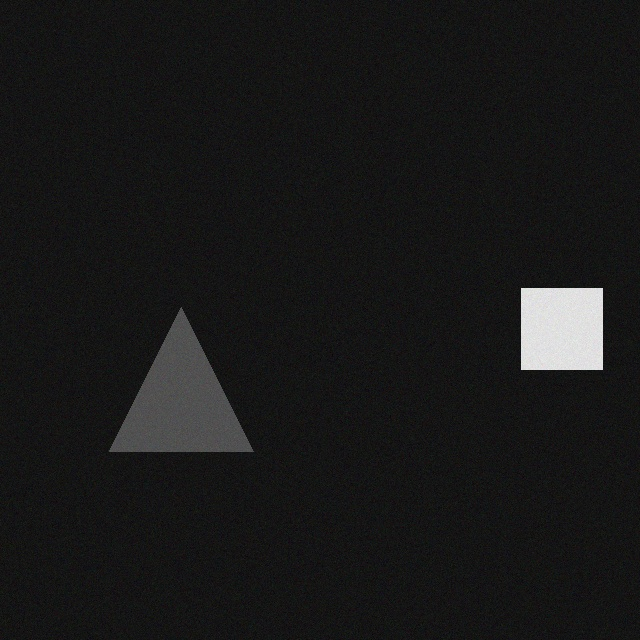square: (520, 279, 601, 360)
triangle: (108, 298, 252, 442)
